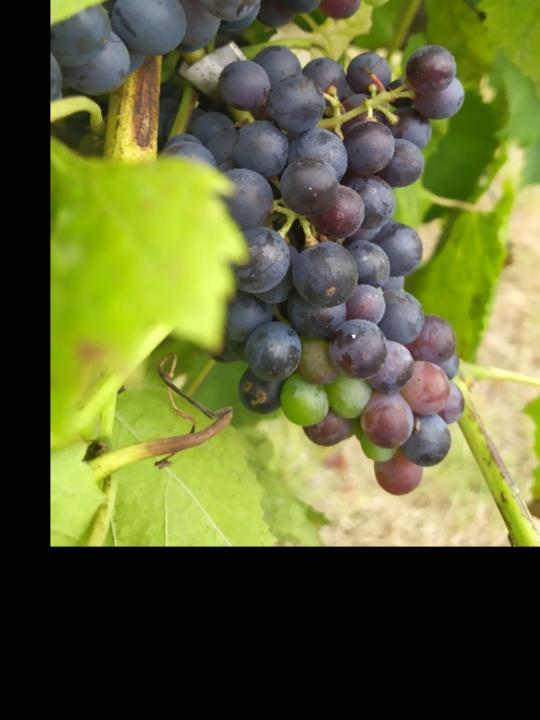grape: (156, 43, 469, 499)
